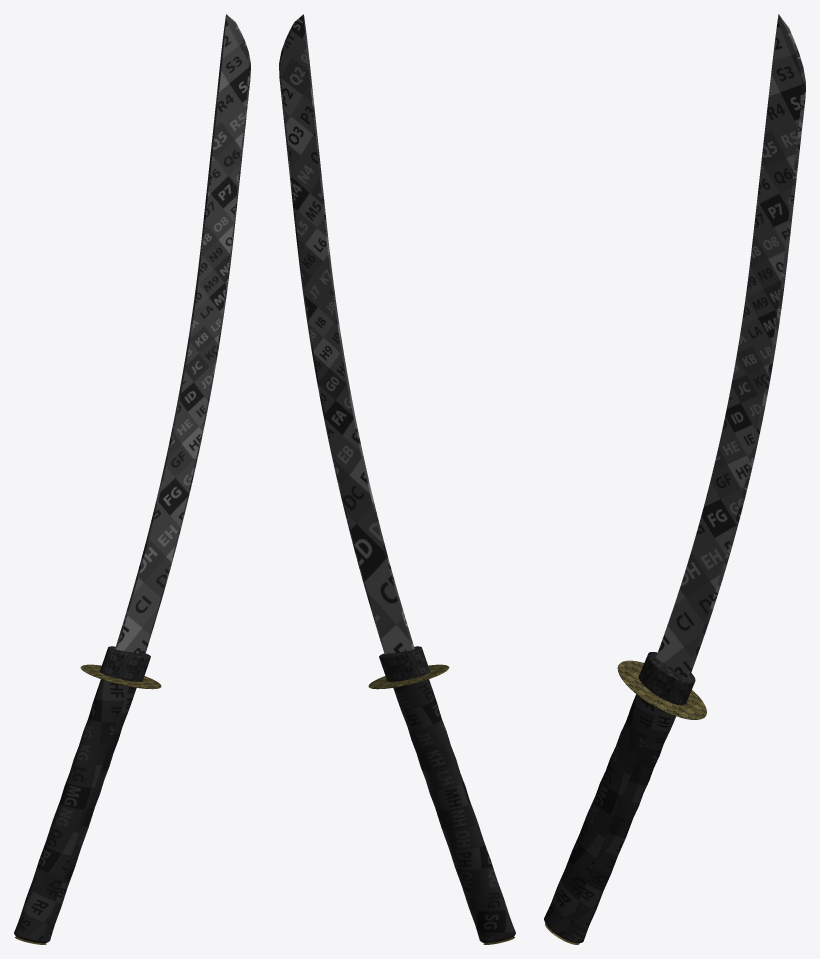
The model's file is Samurai_Sword_With_Animation.fbx.
3 renders of one model, left to right at view 1: azimuth 30°, elevation 25°; view 2: azimuth 150°, elevation 25°; view 3: azimuth 330°, elevation 25°, orthographic. The views are drawn at different scales.
Parts seen in each view (by area): view 1: polySurface3; view 2: polySurface3; view 3: polySurface3.
Boxes of the visible parts, bbox=[...] form: polySurface3: bbox=[14, 14, 250, 944]; polySurface3: bbox=[279, 14, 515, 944]; polySurface3: bbox=[544, 14, 805, 944].
Size of the model in its own units: 8.05 by 28.83 by 1.64.
3 materials, 3 textured.
